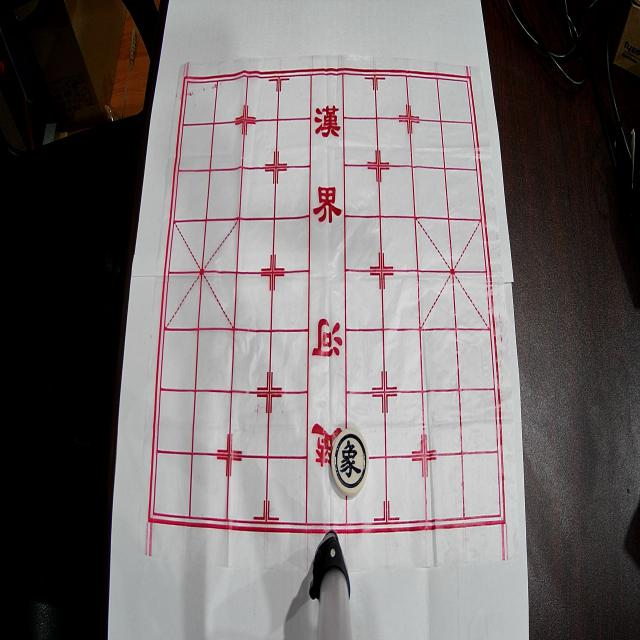black-elephant: (331, 428, 369, 496)
